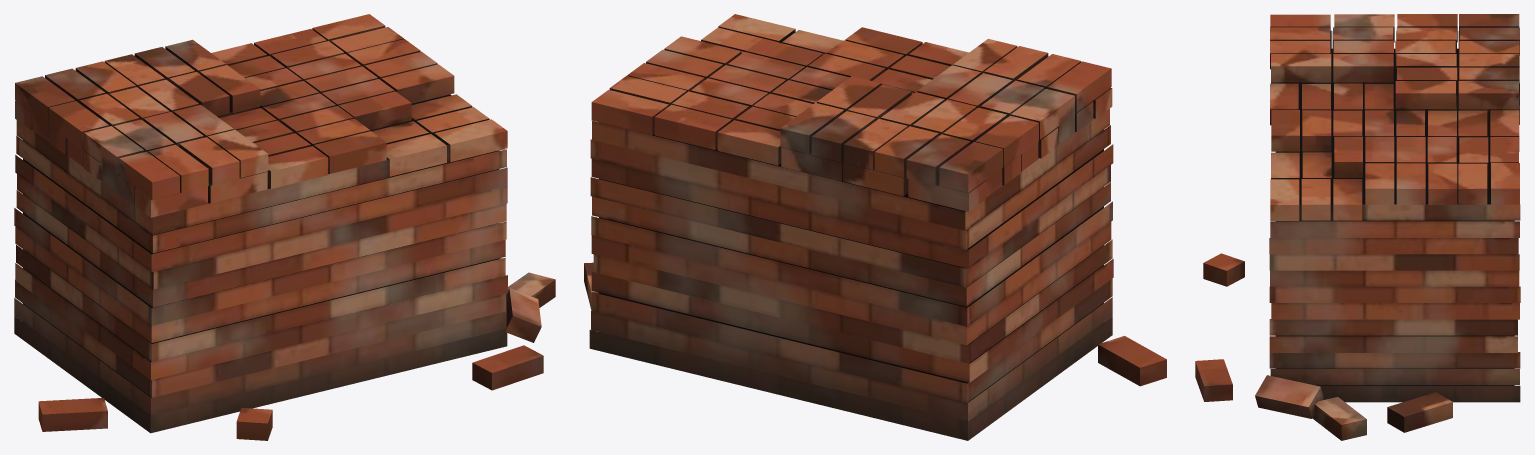
Rendered from brick_pile.glb.
3 views of the same model, side by side, from view 1: azimuth 30°, elevation 25°; view 2: azimuth 150°, elevation 25°; view 3: azimuth 270°, elevation 25° (orthographic). The views are drawn at different scales.
Parts seen in each view (by area): view 1: body; view 2: body; view 3: body.
Boxes of the visible parts, <box> form: body: <box>14,14,555,440</box>; body: <box>584,14,1166,440</box>; body: <box>1195,14,1520,440</box>.
Size of the model in its own units: 2.2 by 1.01 by 1.29.
1 material, 1 textured.
